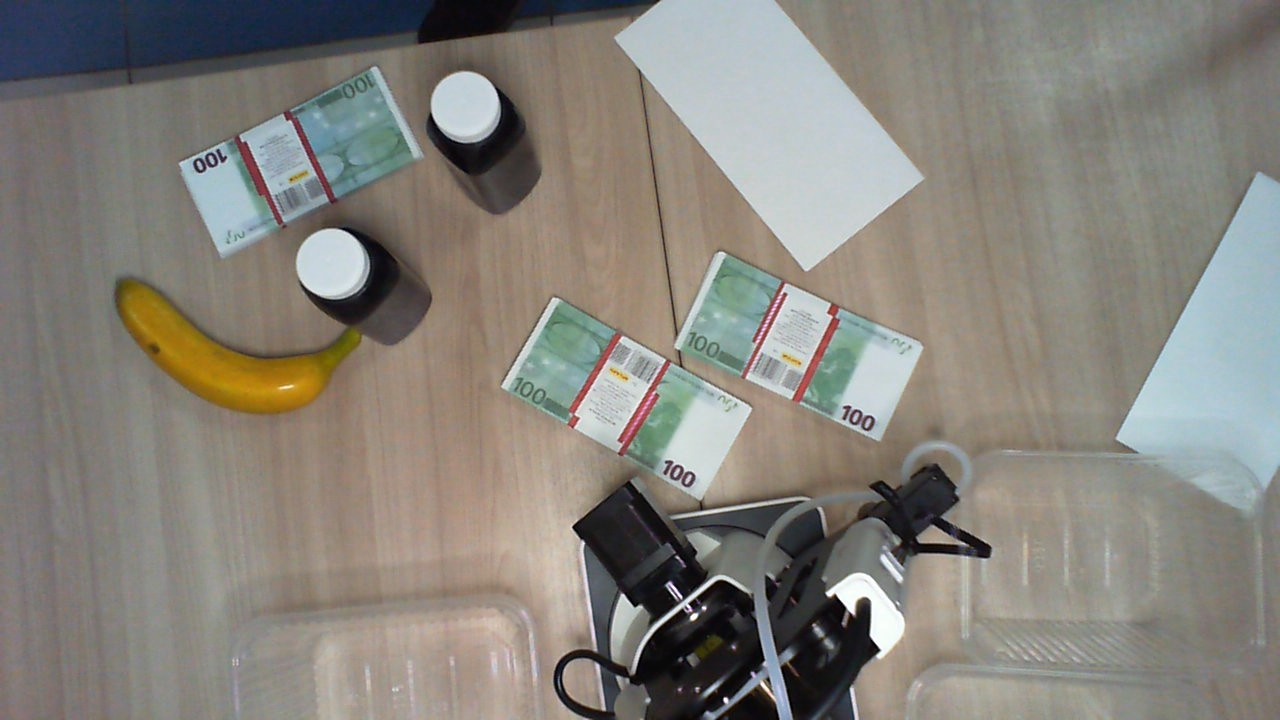banana: (110, 277, 361, 417)
bottle: (293, 223, 394, 324), (424, 67, 517, 168)
convert: (614, 1, 927, 273), (1116, 172, 1278, 514)
money: (500, 295, 754, 499), (676, 252, 923, 442), (180, 65, 422, 257)
